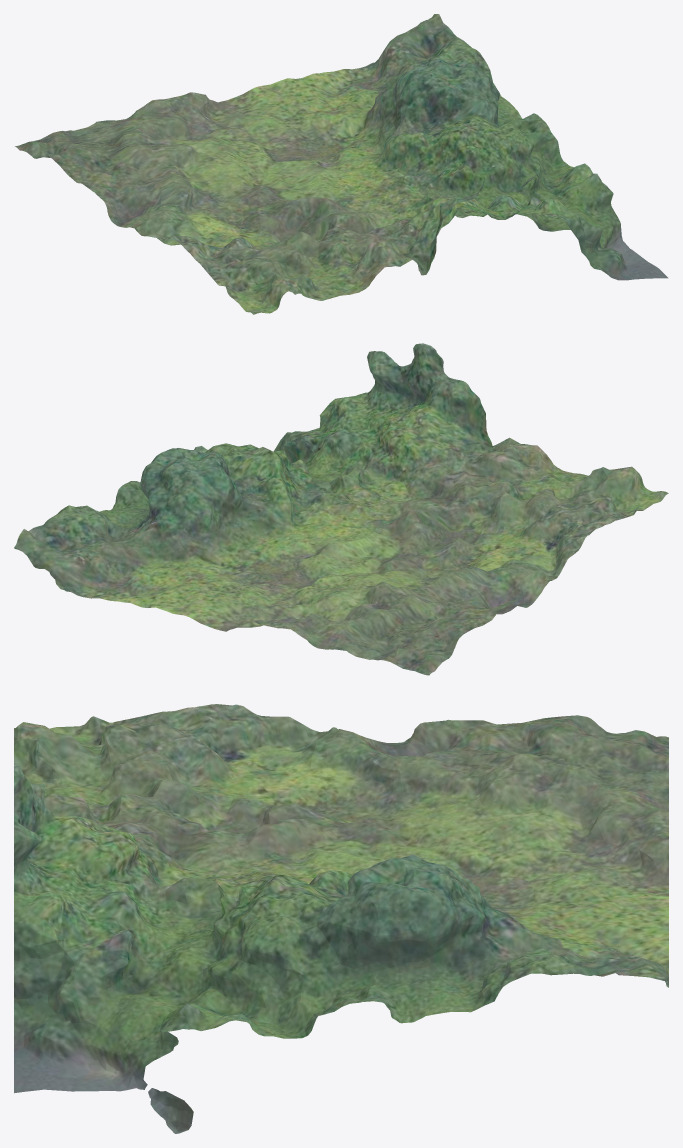
File: Tile_+001_+007_L21_0000300.glb
The picture shows the model from 3 angles, top to bottom: view 1: azimuth 30°, elevation 25°; view 2: azimuth 150°, elevation 25°; view 3: azimuth 270°, elevation 25°; orthographic projection. The views are drawn at different scales.
Parts seen in each view (by area): view 1: rtc; view 2: rtc; view 3: rtc.
Part boxes in pixels (<box>): rtc: <box>15,14,668,314</box>; rtc: <box>14,343,668,675</box>; rtc: <box>14,704,668,1133</box>.
Bounding box in the file's own units: 25.13 × 10.68 × 25.13.
1 material, 1 textured.
